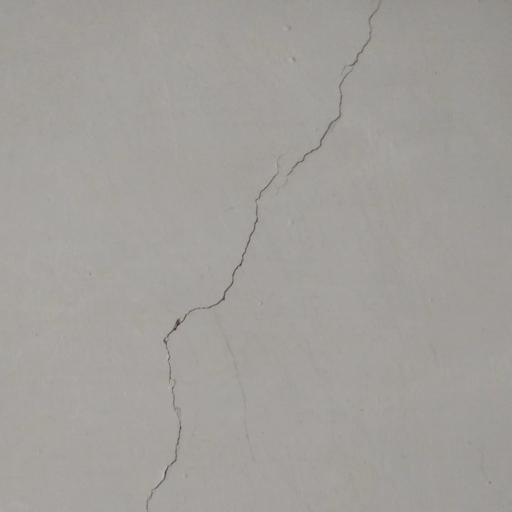major_crack: (141, 0, 390, 512)
